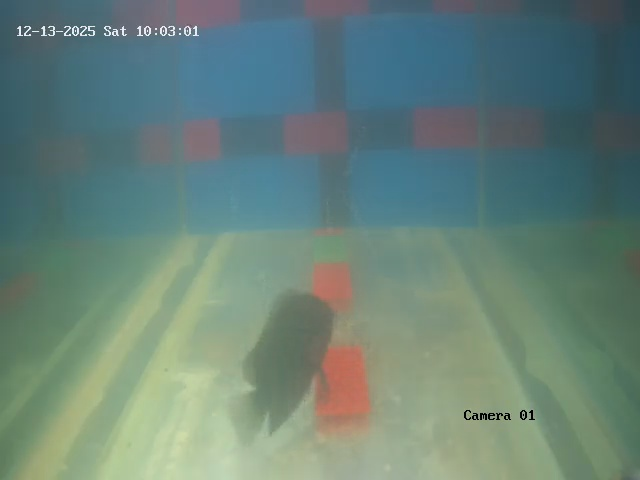fish: (235, 291, 335, 401)
